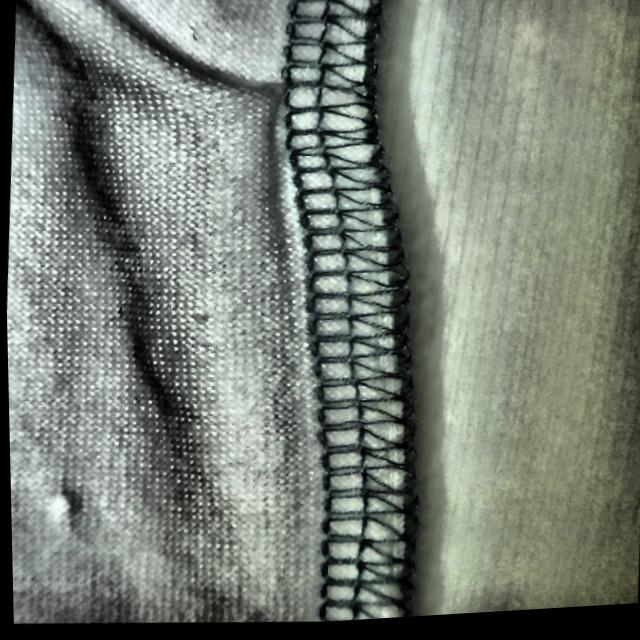seam: (152, 34, 425, 221)
